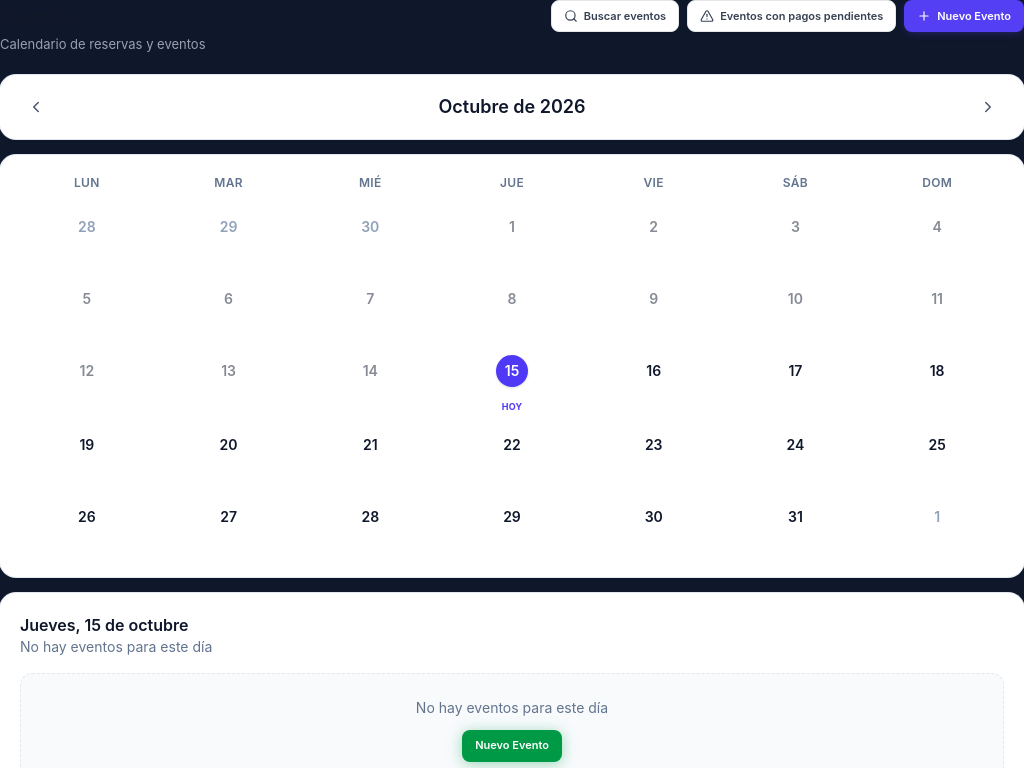
Scenario: EventosPage › opens the client form from Nuevo Evento
Click the 1st button "Nuevo Evento": coordinates (964, 16) [904,0,1023,32]
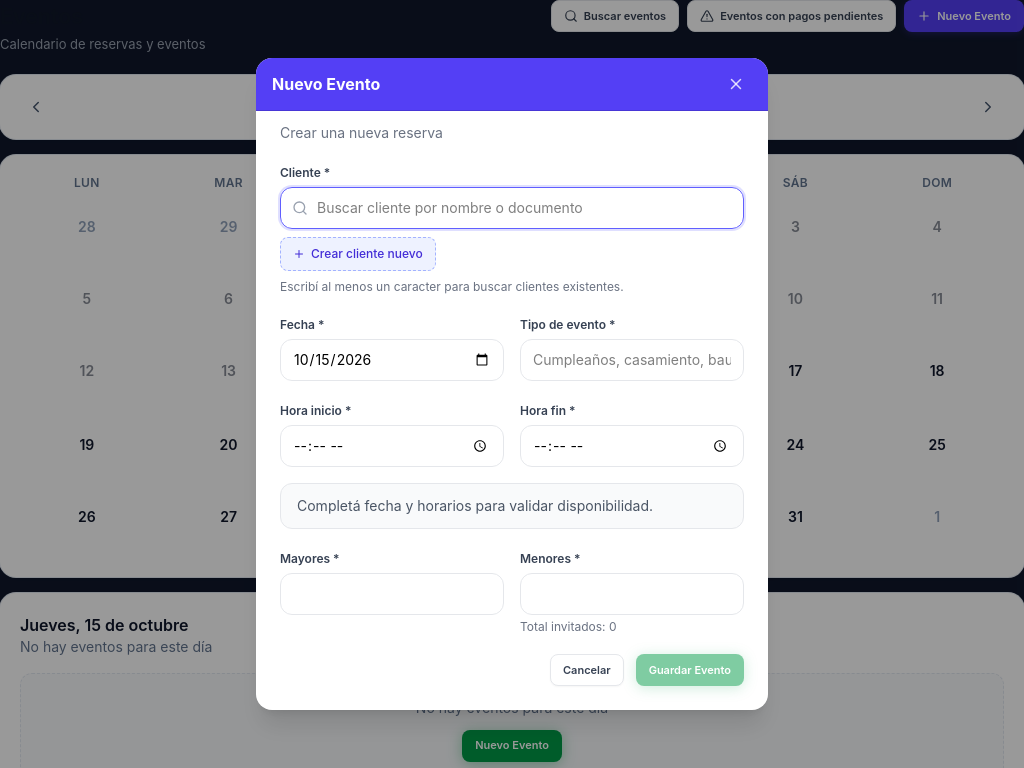
Click the button "Crear cliente nuevo": coordinates (358, 254) [280,237,436,271]
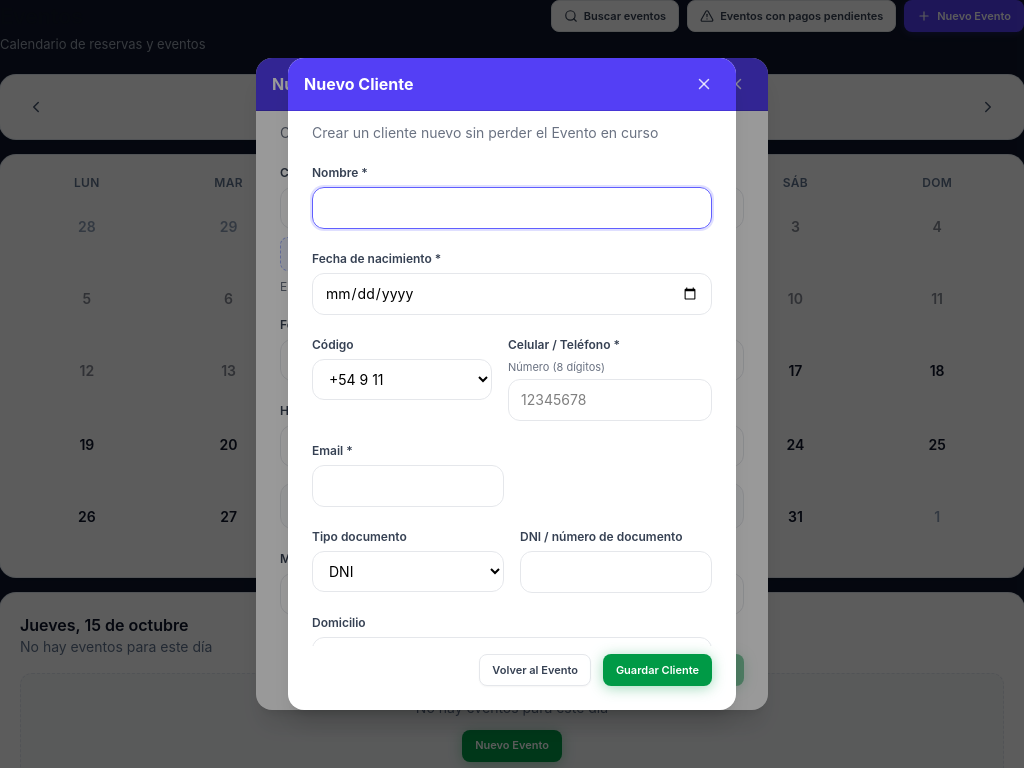
Now the field labelled "Nombre *" is shown, box [312,187,712,229]
Now the date field labelled "Fecha de nacimiento *" is shown, box [312,273,712,315]
Now the dropdown labelled "Código" shows "+54 9 11", box [312,359,492,400]
